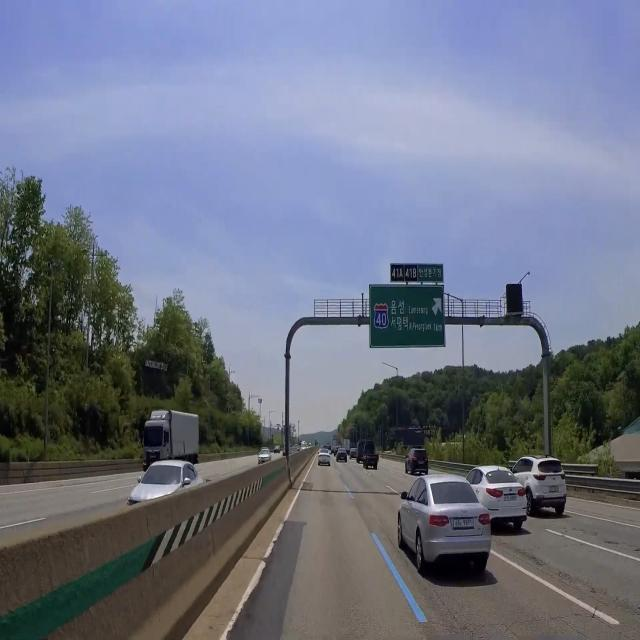car: (451, 516, 477, 532), (502, 491, 519, 502), (548, 483, 562, 496), (417, 460, 426, 468)
